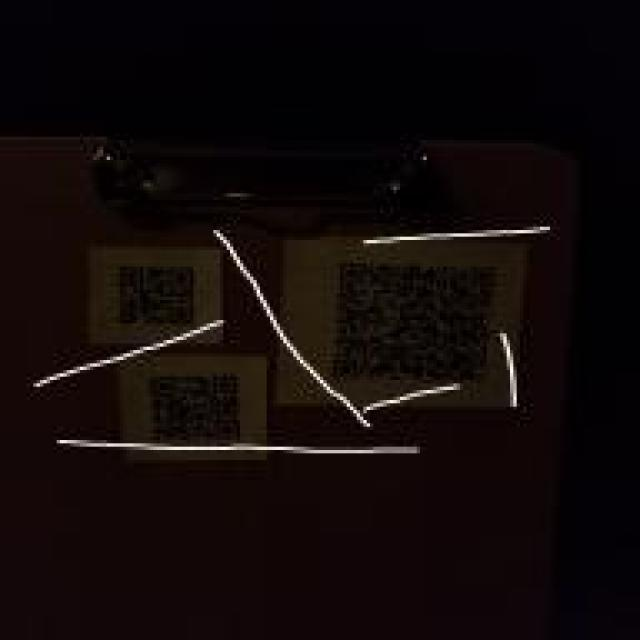qr_code: (335, 260, 497, 379), (149, 373, 242, 449), (118, 265, 196, 328)
